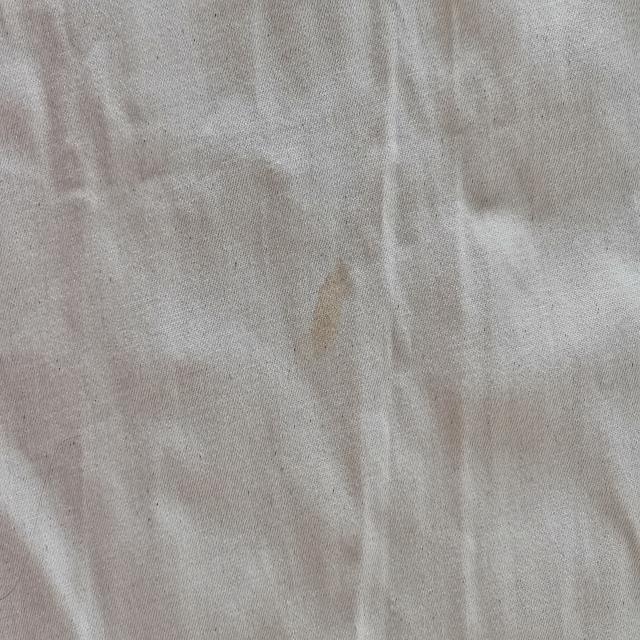taaaches: (310, 256, 360, 374)
